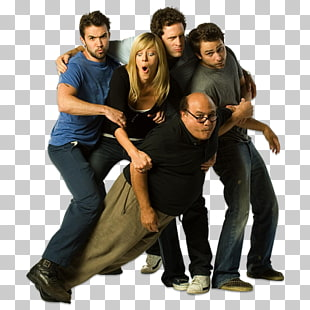person: (153, 92, 230, 168), (189, 16, 246, 104), (65, 5, 118, 90)
